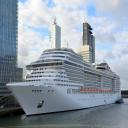cruises: (6, 40, 125, 119)
